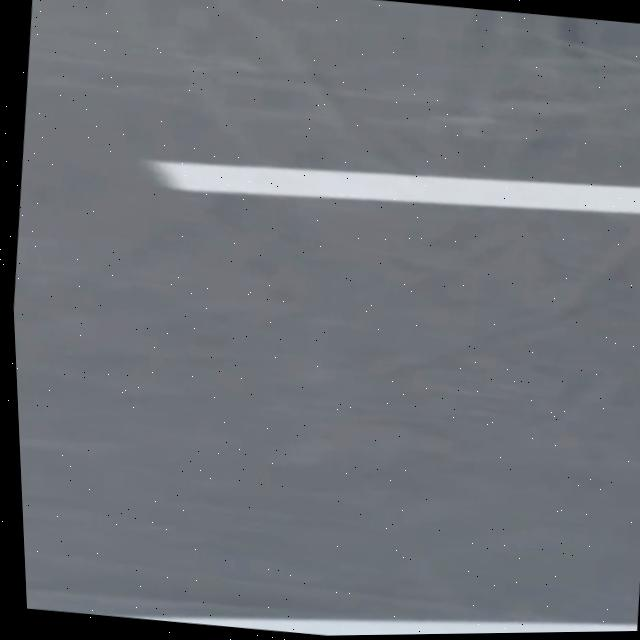left: (148, 160, 640, 213)
